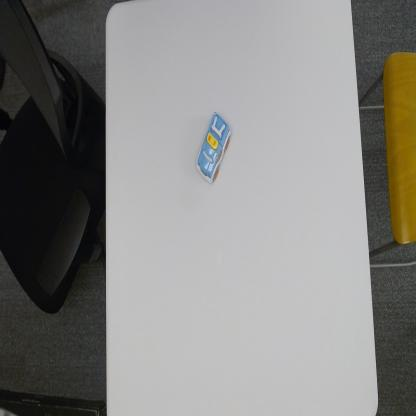Car: (194, 109, 233, 185)
